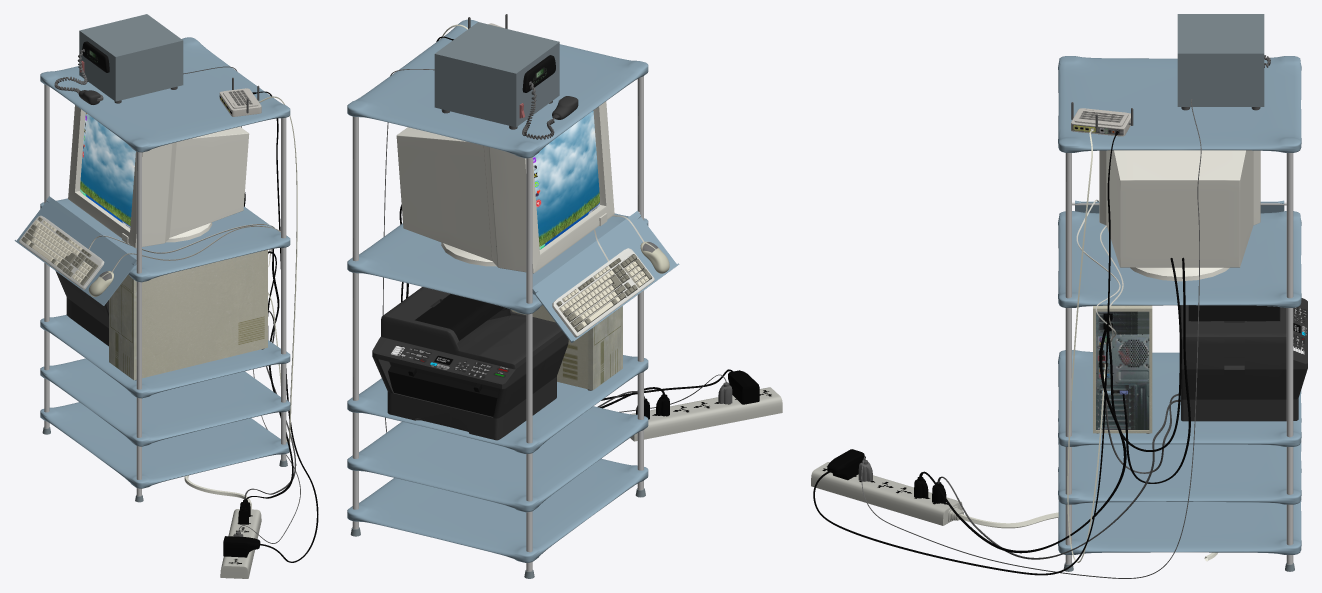
Rendered from office.glb.
3 views of the same model, side by side, from view 1: azimuth 30°, elevation 25°; view 2: azimuth 150°, elevation 25°; view 3: azimuth 270°, elevation 25° (orthographic). The views are drawn at different scales.
Visible parts, largest first — view 1: shelf.Shape, CRTmonitor.Shape, CPU_old.Shape, transceiver.Shape, keyboard_old.Shape, printer.Shape, power_cord.Shape, router_cable.Shape, router.Shape, CPU_old_cables.Shape, LAN_cable_old_CPU.Shape, mouse_old.Shape (+1 smaller); view 2: shelf.Shape, CRTmonitor.Shape, printer.Shape, transceiver.Shape, keyboard_old.Shape, CPU_old.Shape, power_cord.Shape, router_cable.Shape, tranceiver_cable.Shape, mouse_old.Shape, CPU_old_cables.Shape; view 3: shelf.Shape, CRTmonitor.Shape, printer.Shape, transceiver.Shape, CPU_old.Shape, power_cord.Shape, CPU_old_cables.Shape, router_cable.Shape, printer_cables.Shape, tranceiver_cable.Shape, router.Shape, LAN_cable_old_CPU.Shape.
Part boxes in pixels (x1,y1,x2,y2): shelf.Shape: (14, 37, 290, 502); CRTmonitor.Shape: (68, 105, 249, 248); CPU_old.Shape: (109, 250, 267, 380); transceiver.Shape: (54, 14, 183, 104); keyboard_old.Shape: (19, 215, 274, 289); printer.Shape: (55, 271, 108, 346); power_cord.Shape: (184, 475, 261, 578); router_cable.Shape: (223, 91, 318, 562); router.Shape: (219, 77, 261, 116); CPU_old_cables.Shape: (238, 192, 293, 524); LAN_cable_old_CPU.Shape: (258, 96, 297, 443); mouse_old.Shape: (88, 225, 280, 296); shelf.Shape: (347, 19, 679, 578); CRTmonitor.Shape: (396, 101, 614, 273); printer.Shape: (372, 287, 568, 440); transceiver.Shape: (434, 22, 578, 139); keyboard_old.Shape: (552, 229, 654, 337); CPU_old.Shape: (511, 305, 622, 390); power_cord.Shape: (630, 387, 782, 441); router_cable.Shape: (436, 36, 759, 404); tranceiver_cable.Shape: (382, 69, 732, 432); mouse_old.Shape: (612, 215, 669, 273); CPU_old_cables.Shape: (399, 204, 669, 416); shelf.Shape: (1058, 56, 1301, 571); CRTmonitor.Shape: (1099, 150, 1260, 281); printer.Shape: (1180, 298, 1307, 421); transceiver.Shape: (1177, 14, 1270, 110); CPU_old.Shape: (1093, 305, 1152, 433); power_cord.Shape: (811, 462, 1217, 561); CPU_old_cables.Shape: (914, 257, 1190, 553); router_cable.Shape: (813, 131, 1118, 575); printer_cables.Shape: (932, 390, 1180, 559); tranceiver_cable.Shape: (858, 99, 1201, 578); router.Shape: (1071, 102, 1133, 136); LAN_cable_old_CPU.Shape: (1067, 128, 1105, 562).
Size of the model in its own units: 0.9002 by 1.75 by 1.62.
Materials: 33 (12 with a texture image).
